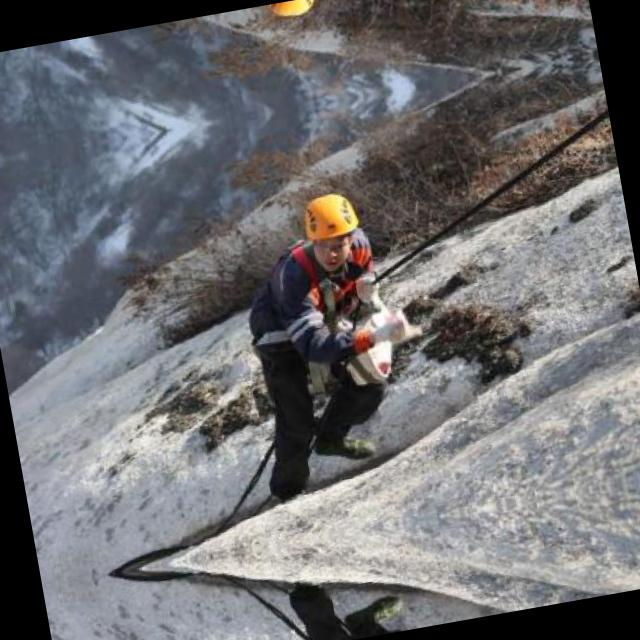helmet: (290, 180, 370, 269), (257, 0, 329, 30)
